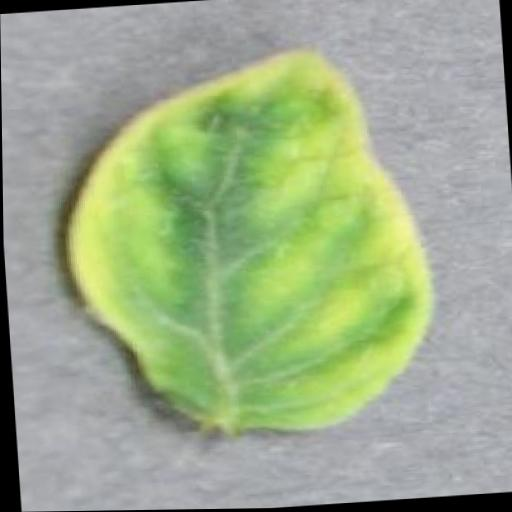Yellow Leaf Curl Virus: (50, 37, 441, 447)
